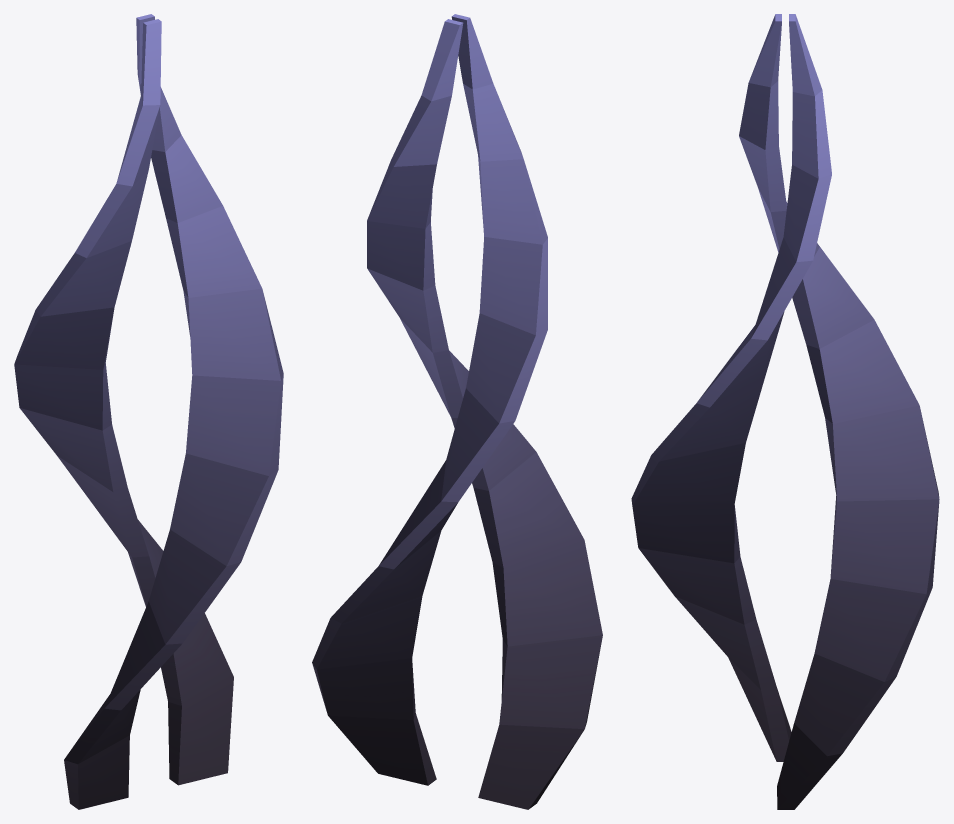
File: Monument_Industrial.fbx
3 renders of one model, left to right at view 1: azimuth 30°, elevation 25°; view 2: azimuth 150°, elevation 25°; view 3: azimuth 270°, elevation 25°, orthographic.
Visible parts, largest first — view 1: Monument_Industrial; view 2: Monument_Industrial; view 3: Monument_Industrial.
Part boxes in pixels (x1=…): Monument_Industrial: x1=14, y1=14, x2=283, y2=809; Monument_Industrial: x1=312, y1=14, x2=602, y2=809; Monument_Industrial: x1=631, y1=14, x2=939, y2=809.
Size of the model in its own units: 502 by 1736 by 641.
